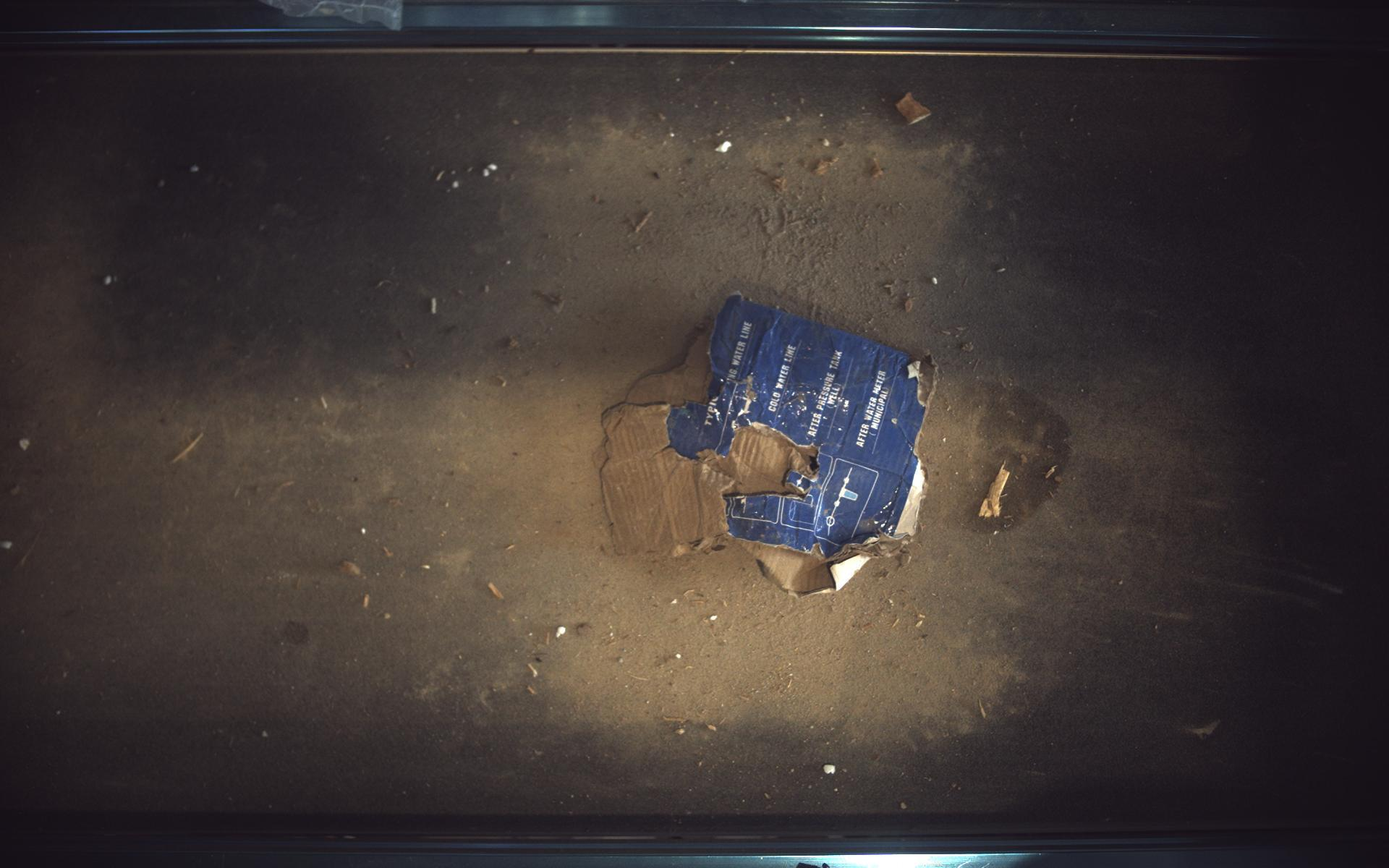general_w: (600, 294, 937, 595)
